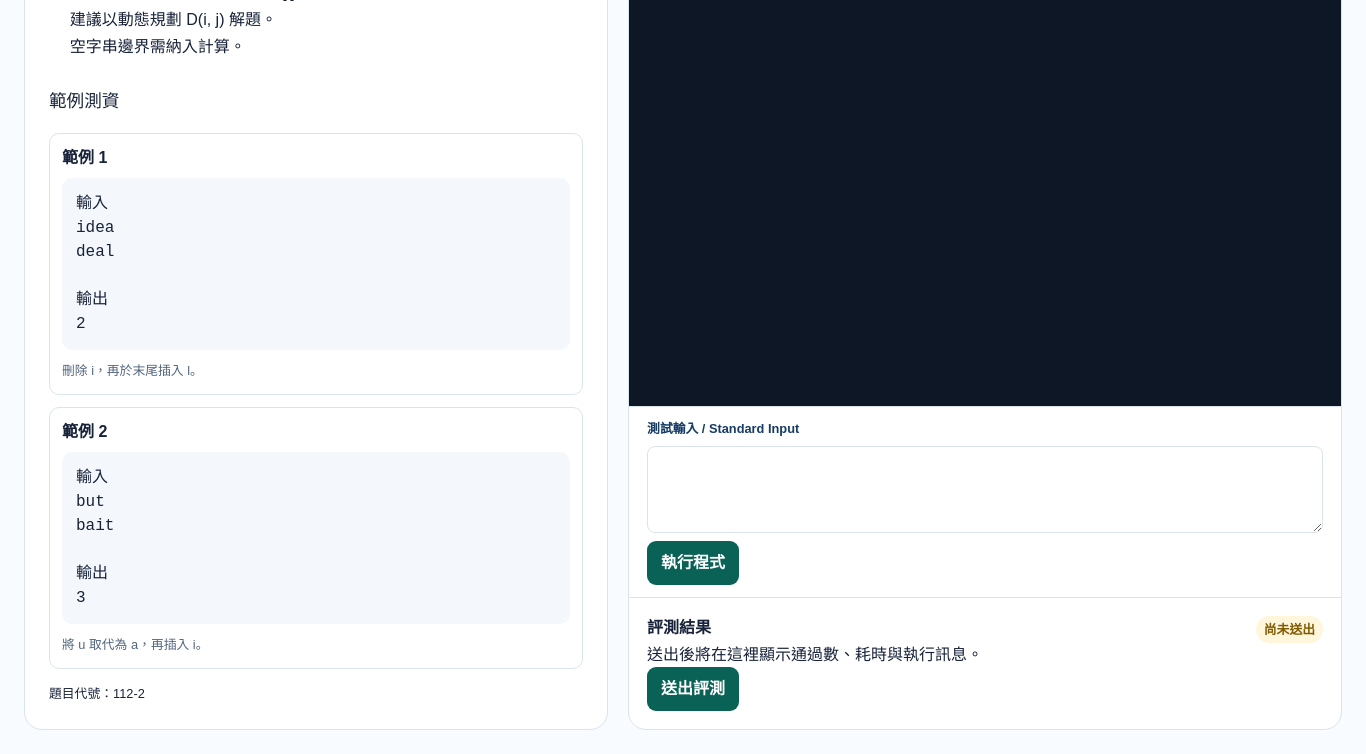
Test: Phase 4：server-authoritative finalization（Browser 不再自己決定成績） › compilation_error 視為真實評測結果，顯示 server 回傳的分數／狀態，不再由 client 自行計算或回填 /api/data
(page scrolled)
Click the button "送出評測". click: (693, 689)
box: x1=647 y1=667 x2=739 y2=711
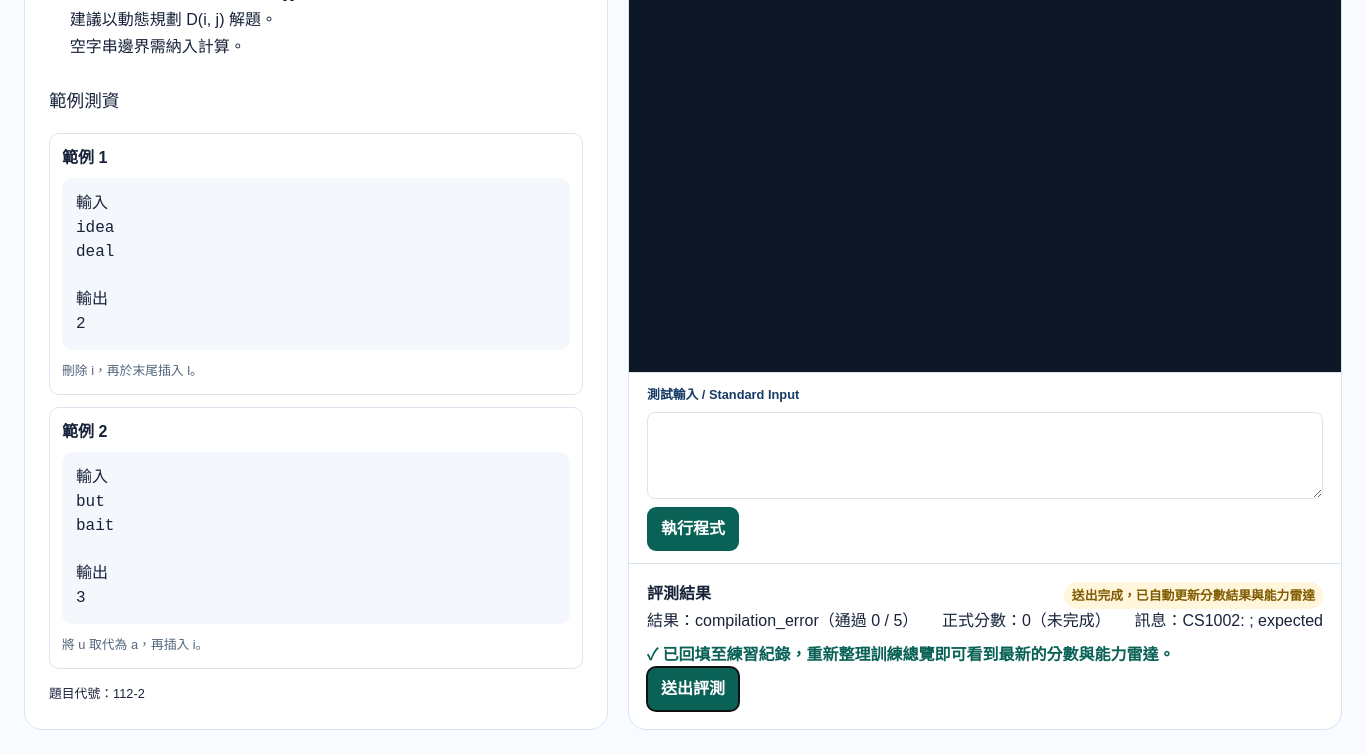
Expected: the text "送出完成，已自動更新分數結果與能力雷達" is shown, x1=1064 y1=582 x2=1323 y2=609
Expected: the text "正式分數：0（未完成）" is shown, x1=942 y1=609 x2=1111 y2=633
